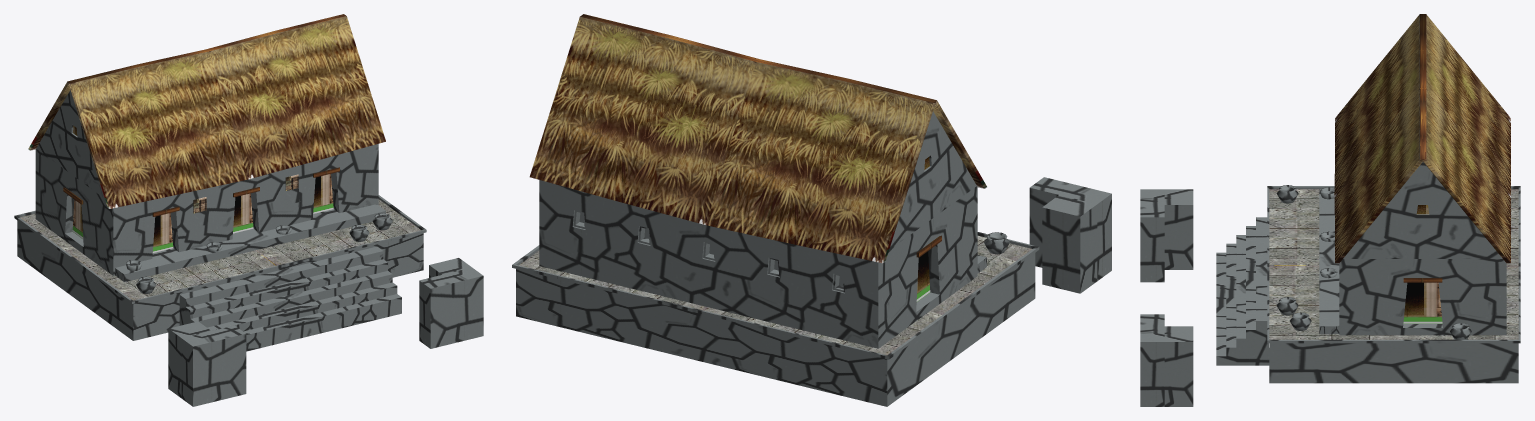
Rendered from inca_kallanka.dae.
3 renders of one model, left to right at view 1: azimuth 30°, elevation 25°; view 2: azimuth 150°, elevation 25°; view 3: azimuth 270°, elevation 25°, orthographic. The views are drawn at different scales.
Parts seen in each view (by area): view 1: kallanka; view 2: kallanka; view 3: kallanka.
Boxes of the visible parts, x1,y1,x2,y2 form: kallanka: (14,14,483,406); kallanka: (512,14,1111,406); kallanka: (1140,14,1520,406).
Size of the model in its own units: 25.59 by 26.54 by 18.79.
